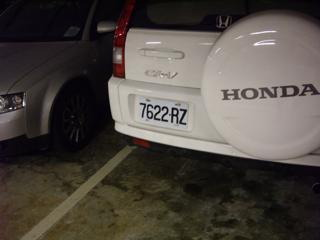plate: (136, 96, 189, 131)
